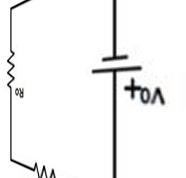Battery: (80, 34, 142, 80)
